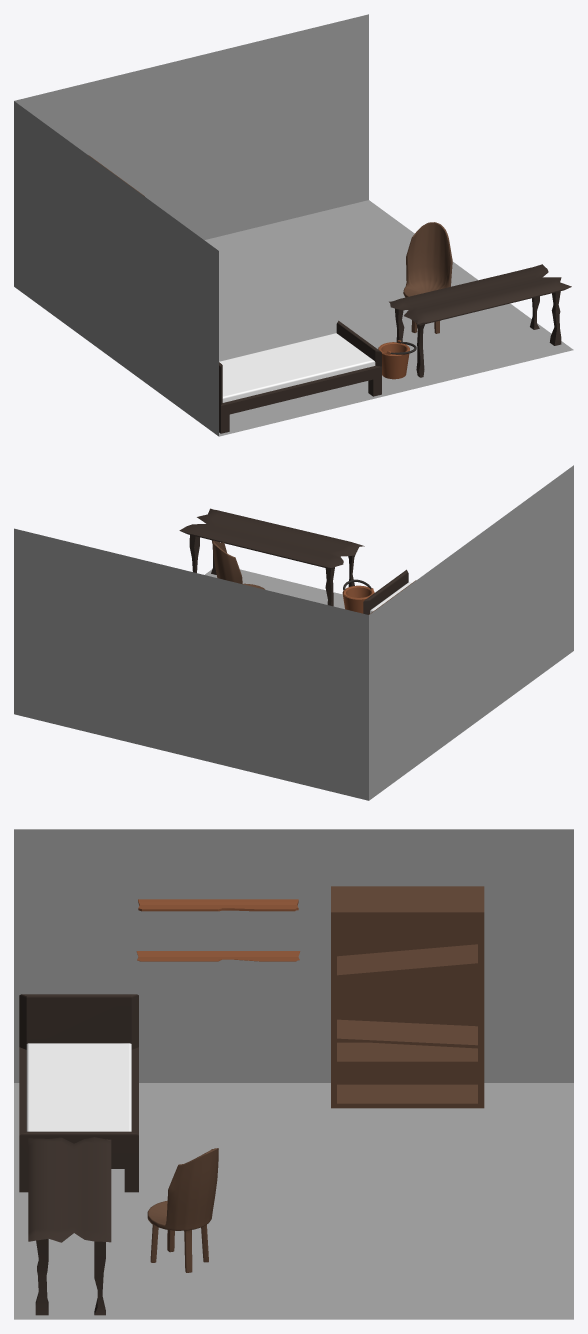
File: Scene2_SketchFab.fbx
The picture shows the model from 3 angles, top to bottom: view 1: azimuth 30°, elevation 25°; view 2: azimuth 150°, elevation 25°; view 3: azimuth 270°, elevation 25°; orthographic projection. The views are drawn at different scales.
Parts seen in each view (by area): view 1: pPlane2, pPlane3, pPlane1, Bed:pCube1, Wooden_Table:WoodenTable, Wooden_Chair:pCylinder1, Bucket:Bucket_1; view 2: pPlane2, pPlane3, Wooden_Table:WoodenTable, pPlane1, Wooden_Chair:pCylinder1, Bed:pCube1, Bucket:Bucket_1; view 3: pPlane1, pPlane3, Wood_Bookshelf1:pCube1, Bed:pCube1, Wooden_Table:WoodenTable, Wooden_Chair:pCylinder1, pCube8, Wooden_Shelf:pCube1.
Part boxes in pixels (box(x1,y1,x2,y2)): pPlane2: box(14, 14, 368, 239); pPlane3: box(14, 101, 218, 436); pPlane1: box(204, 200, 573, 436); Bed:pCube1: box(219, 320, 381, 433); Wooden_Table:WoodenTable: box(389, 264, 571, 377); Wooden_Chair:pCylinder1: box(403, 222, 452, 333); Bucket:Bucket_1: box(378, 340, 409, 379); pPlane2: box(14, 528, 368, 800); pPlane3: box(369, 465, 573, 800); Wooden_Table:WoodenTable: box(179, 508, 364, 606); pPlane1: box(205, 569, 344, 608); Wooden_Chair:pCylinder1: box(212, 540, 265, 589); Bed:pCube1: box(363, 569, 411, 614); Bucket:Bucket_1: box(342, 585, 374, 613); pPlane1: box(14, 1083, 573, 1319); pPlane3: box(14, 829, 573, 1082); Wood_Bookshelf1:pCube1: box(331, 886, 484, 1108); Bed:pCube1: box(19, 994, 138, 1192); Wooden_Table:WoodenTable: box(28, 1137, 111, 1315); Wooden_Chair:pCylinder1: box(147, 1148, 218, 1272); pCube8: box(138, 899, 298, 911); Wooden_Shelf:pCube1: box(136, 951, 300, 961).
Bounding box in the file's own units: 26.59 × 13.11 × 26.22.
7 materials, 6 textured.
